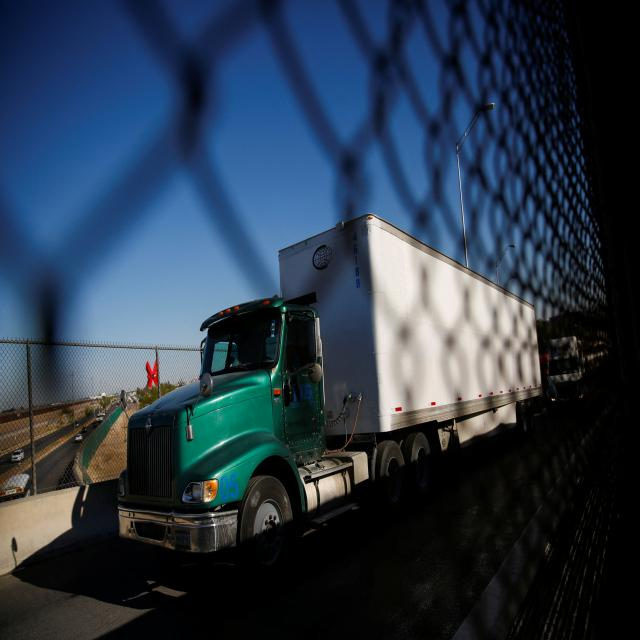truck: (106, 174, 543, 561), (549, 581, 551, 591)
